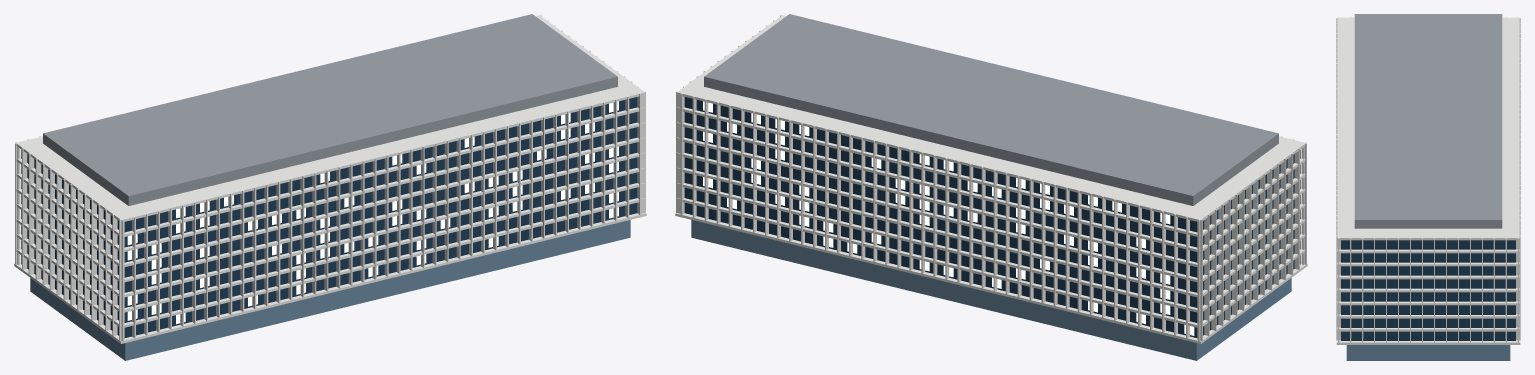
The model's file is yas-hotel-b.glb.
3 renders of one model, left to right at view 1: azimuth 30°, elevation 25°; view 2: azimuth 150°, elevation 25°; view 3: azimuth 270°, elevation 25°, orthographic. The views are drawn at different scales.
Parts seen in each view (by area): view 1: yas-hotel-b; view 2: yas-hotel-b; view 3: yas-hotel-b.
Boxes of the visible parts, <box> form: yas-hotel-b: <box>14,14,646,360</box>; yas-hotel-b: <box>675,14,1307,360</box>; yas-hotel-b: <box>1336,14,1520,360</box>.
Bounding box in the file's own units: 131 × 38 × 46.2.
